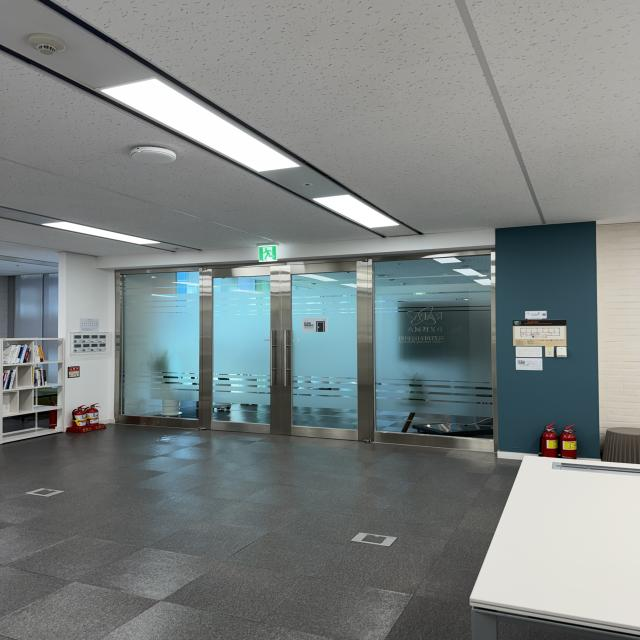front_door: (113, 248, 499, 453)
